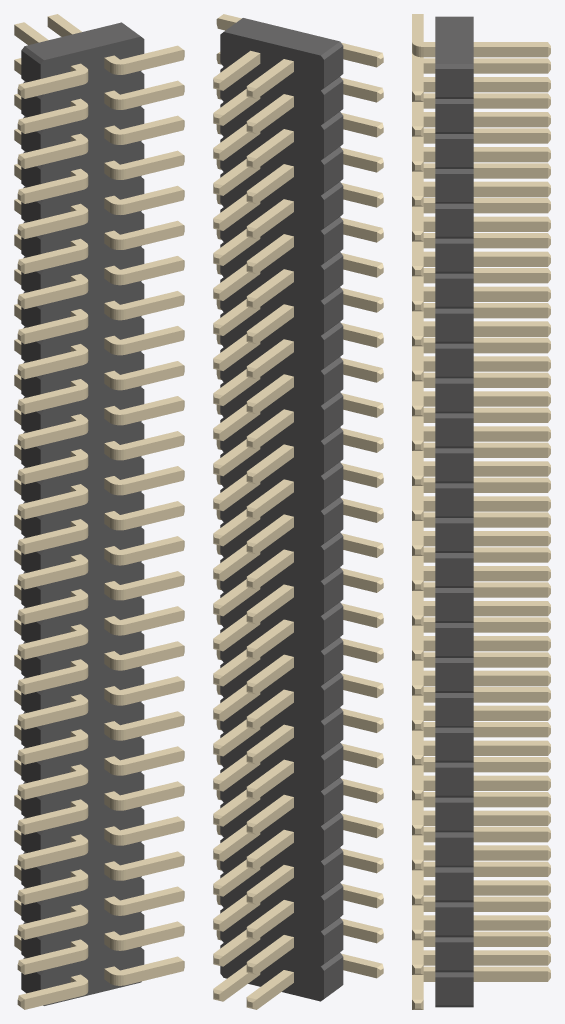
The model's file is PinHeader_2x27_P1.00mm_Vertical_SMD.glb.
3 views of the same model, side by side, from view 1: azimuth 30°, elevation 25°; view 2: azimuth 150°, elevation 25°; view 3: azimuth 270°, elevation 25° (orthographic).
Parts seen in each view (by area): view 1: Shape_IndexedFaceSet.003, Shape_IndexedFaceSet.001, Shape_IndexedFaceSet.681, Shape_IndexedFaceSet.731, Shape_IndexedFaceSet.686, Shape_IndexedFaceSet.821, Shape_IndexedFaceSet.846, Shape_IndexedFaceSet.851, Shape_IndexedFaceSet.616, Shape_IndexedFaceSet.676, Shape_IndexedFaceSet.841, Shape_IndexedFaceSet.601 (+99 smaller); view 2: Shape_IndexedFaceSet.004, Shape_IndexedFaceSet.001, Shape_IndexedFaceSet.013, Shape_IndexedFaceSet.031, Shape_IndexedFaceSet.043, Shape_IndexedFaceSet.067, Shape_IndexedFaceSet.109, Shape_IndexedFaceSet.115, Shape_IndexedFaceSet.121, Shape_IndexedFaceSet.151, Shape_IndexedFaceSet.157, Shape_IndexedFaceSet.007 (+45 smaller); view 3: Shape_IndexedFaceSet.001, Shape_IndexedFaceSet.034, Shape_IndexedFaceSet.040, Shape_IndexedFaceSet.046, Shape_IndexedFaceSet.052, Shape_IndexedFaceSet.058, Shape_IndexedFaceSet.064, Shape_IndexedFaceSet.070, Shape_IndexedFaceSet.076, Shape_IndexedFaceSet.124, Shape_IndexedFaceSet.130, Shape_IndexedFaceSet.136 (+152 smaller).
Part boxes in pixels (x1,y1,x2,y2): Shape_IndexedFaceSet.003: (40, 36, 144, 1005); Shape_IndexedFaceSet.001: (25, 22, 140, 59); Shape_IndexedFaceSet.681: (24, 705, 82, 729); Shape_IndexedFaceSet.731: (24, 355, 82, 379); Shape_IndexedFaceSet.686: (24, 670, 82, 694); Shape_IndexedFaceSet.821: (24, 950, 82, 974); Shape_IndexedFaceSet.846: (24, 880, 82, 904); Shape_IndexedFaceSet.851: (24, 810, 82, 834); Shape_IndexedFaceSet.616: (24, 565, 82, 589); Shape_IndexedFaceSet.676: (24, 635, 82, 659); Shape_IndexedFaceSet.841: (24, 915, 82, 939); Shape_IndexedFaceSet.601: (24, 425, 82, 449); Shape_IndexedFaceSet.004: (220, 32, 323, 1001); Shape_IndexedFaceSet.001: (224, 18, 339, 55); Shape_IndexedFaceSet.013: (324, 81, 343, 122); Shape_IndexedFaceSet.031: (324, 186, 343, 227); Shape_IndexedFaceSet.043: (324, 256, 343, 297); Shape_IndexedFaceSet.067: (324, 396, 343, 437); Shape_IndexedFaceSet.109: (324, 642, 343, 683); Shape_IndexedFaceSet.115: (324, 677, 343, 718); Shape_IndexedFaceSet.121: (324, 712, 343, 753); Shape_IndexedFaceSet.151: (324, 887, 343, 928); Shape_IndexedFaceSet.157: (324, 922, 343, 963); Shape_IndexedFaceSet.007: (324, 46, 343, 87); Shape_IndexedFaceSet.001: (435, 16, 473, 63); Shape_IndexedFaceSet.034: (435, 243, 473, 271); Shape_IndexedFaceSet.040: (435, 278, 473, 306); Shape_IndexedFaceSet.046: (435, 313, 473, 341); Shape_IndexedFaceSet.052: (435, 348, 473, 376); Shape_IndexedFaceSet.058: (435, 383, 473, 411); Shape_IndexedFaceSet.064: (435, 418, 473, 446); Shape_IndexedFaceSet.070: (435, 453, 473, 481); Shape_IndexedFaceSet.076: (435, 488, 473, 516); Shape_IndexedFaceSet.124: (435, 767, 473, 795); Shape_IndexedFaceSet.130: (435, 802, 473, 830); Shape_IndexedFaceSet.136: (435, 837, 473, 865).
Size of the model in its own units: 1.93 by 10.63 by 1.42.
